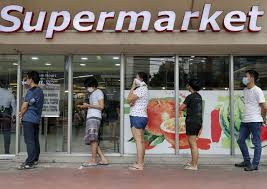Caution: (18, 69, 109, 176), (179, 70, 266, 175), (127, 73, 204, 174), (82, 72, 151, 172)
